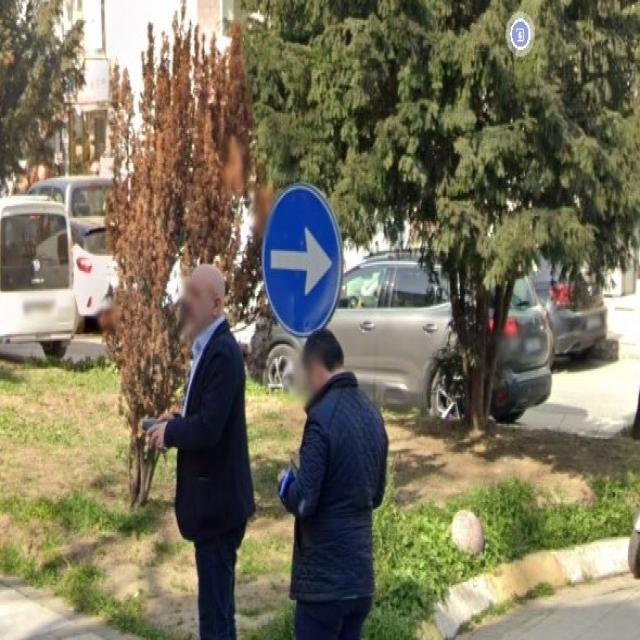Turn Right: (263, 185, 340, 341)
